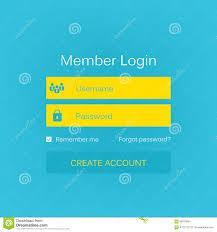button: (47, 151, 172, 175)
checkbox: (46, 137, 54, 144)
icon: (50, 82, 66, 94), (53, 109, 65, 123)
input: (47, 105, 172, 128), (47, 78, 172, 99)
label: (56, 138, 101, 144)
